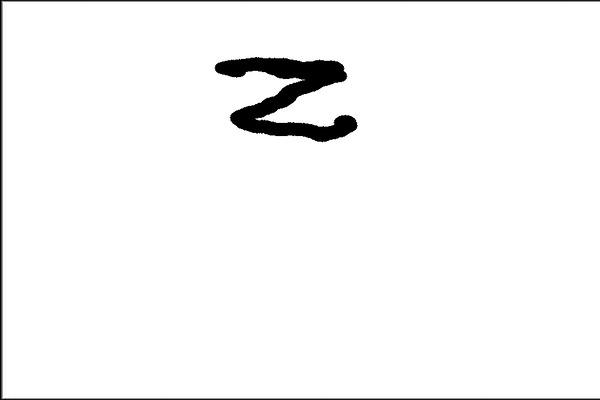Z: (206, 46, 369, 149)
